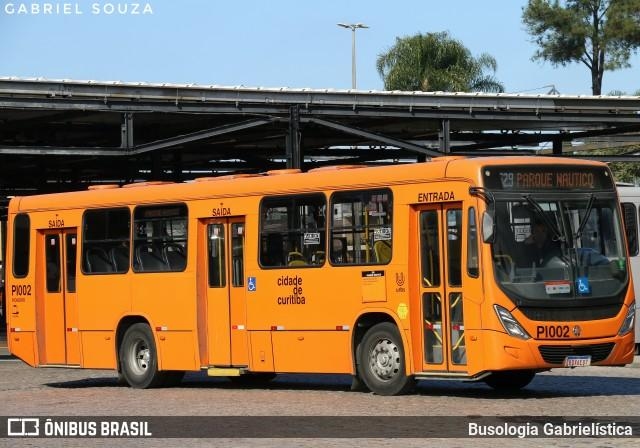PARQUE NAUTICO: (513, 169, 597, 190)
